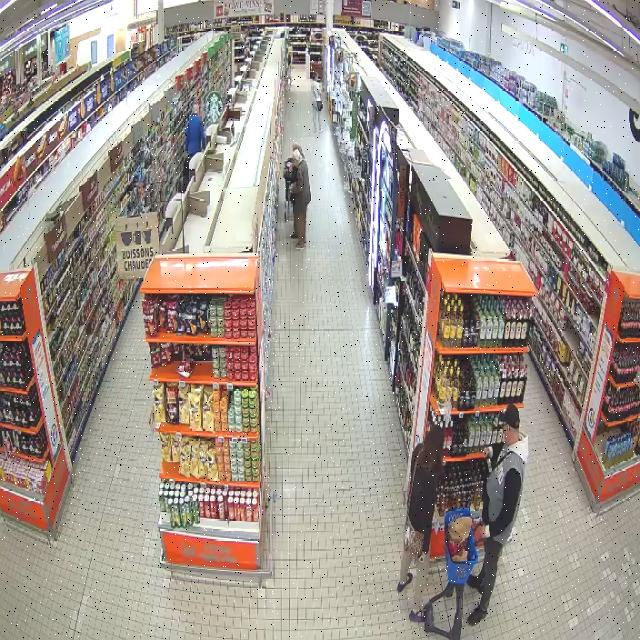article: (485, 456, 493, 475)
bags: (404, 447, 426, 557), (312, 87, 323, 110)
hands: (479, 525, 486, 538), (483, 447, 490, 458), (288, 186, 293, 193)
person: (466, 404, 527, 624), (396, 428, 443, 621), (287, 149, 310, 248)
